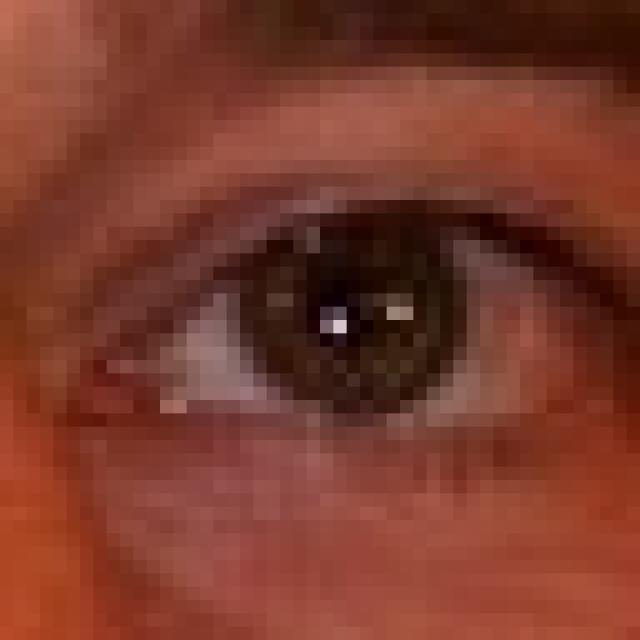eye: (46, 134, 640, 506)
